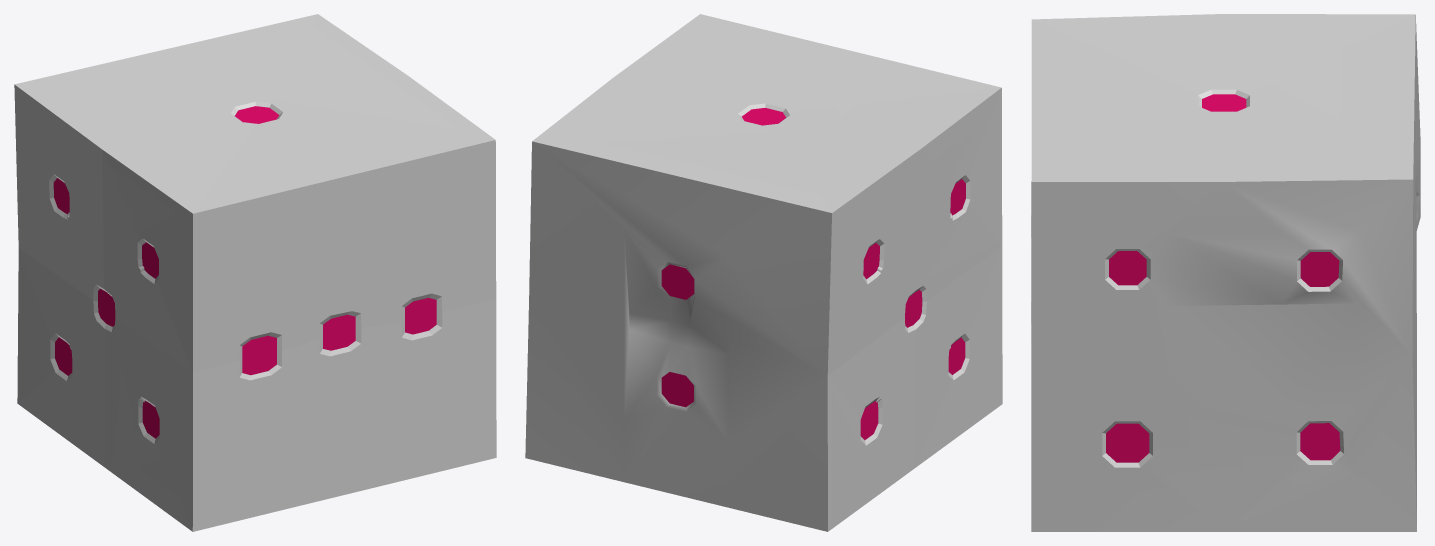
The model's file is Dice.fbx.
The picture shows the model from 3 angles, left to right: view 1: azimuth 30°, elevation 25°; view 2: azimuth 150°, elevation 25°; view 3: azimuth 270°, elevation 25°; orthographic projection. The views are drawn at different scales.
Parts seen in each view (by area): view 1: pCube2; view 2: pCube2; view 3: pCube2.
Part boxes in pixels (x1,y1,x2,y2): pCube2: [14, 14, 496, 531]; pCube2: [525, 14, 1002, 531]; pCube2: [1031, 14, 1420, 531].
Size of the model in its own units: 1.02 by 1.01 by 1.01.
